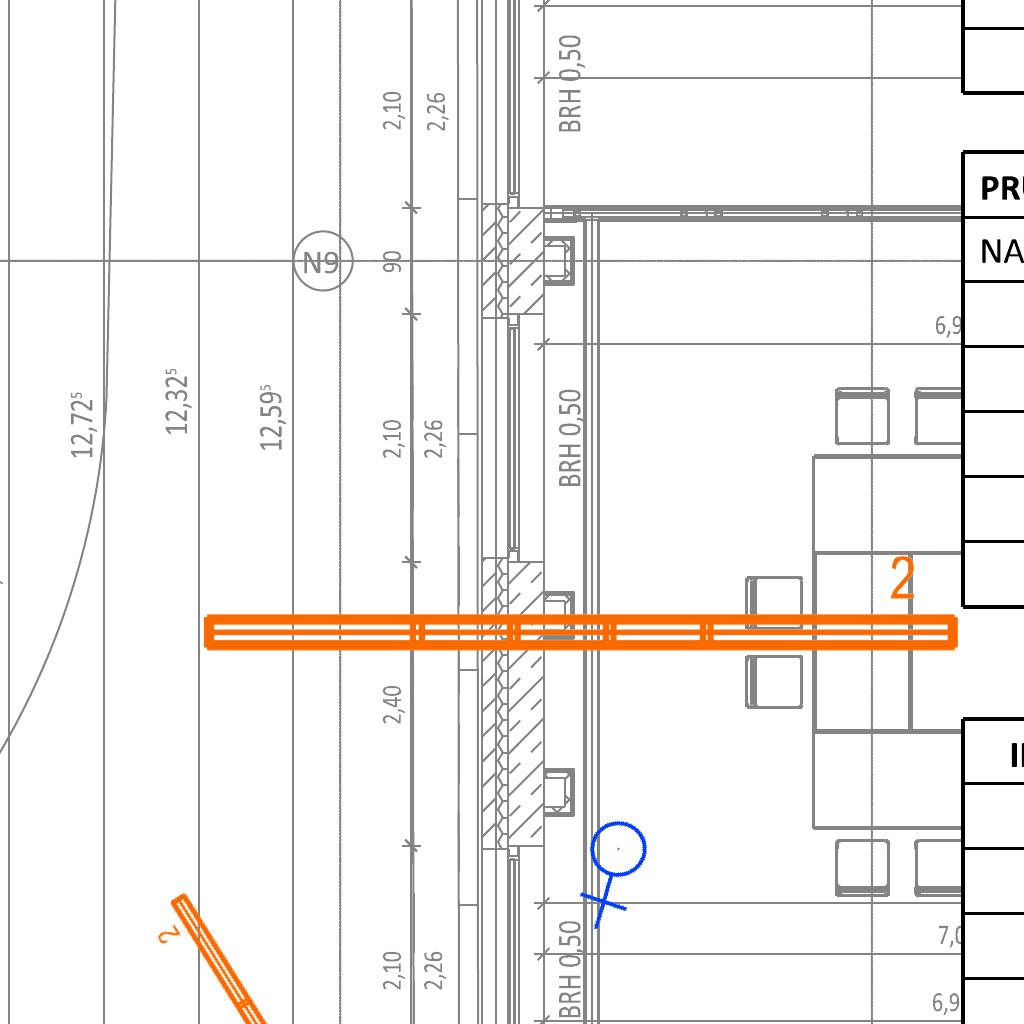Ambulanz_Pendelleuchte_LED: (193, 551, 967, 663), (140, 885, 393, 1024)
Elektroanschluss_allgemein_230V_Geraeteanschlussdose_230V: (550, 804, 683, 936)
